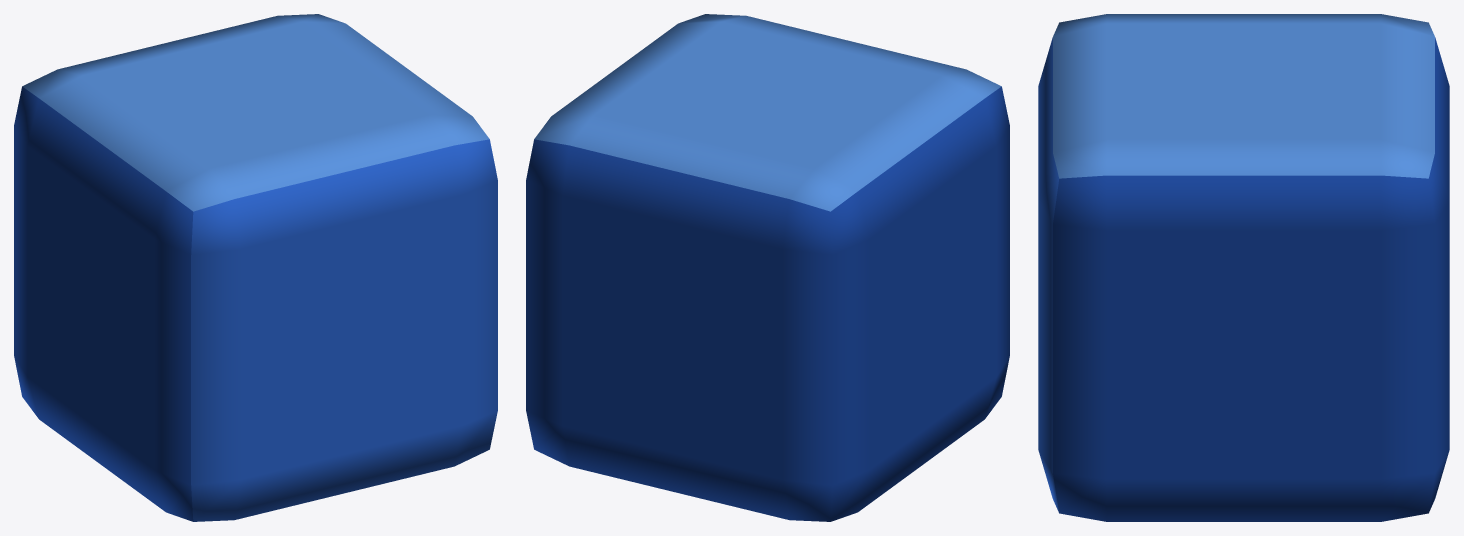
Rendered from cube-blue.glb.
3 views of the same model, side by side, from view 1: azimuth 30°, elevation 25°; view 2: azimuth 150°, elevation 25°; view 3: azimuth 270°, elevation 25° (orthographic). The views are drawn at different scales.
Parts seen in each view (by area): view 1: Cube_Blue; view 2: Cube_Blue; view 3: Cube_Blue.
Boxes of the visible parts, x1,y1,x2,y2 form: Cube_Blue: [14, 14, 497, 521]; Cube_Blue: [526, 14, 1009, 521]; Cube_Blue: [1038, 14, 1449, 521].
Size of the model in its own units: 1 by 1 by 1.
